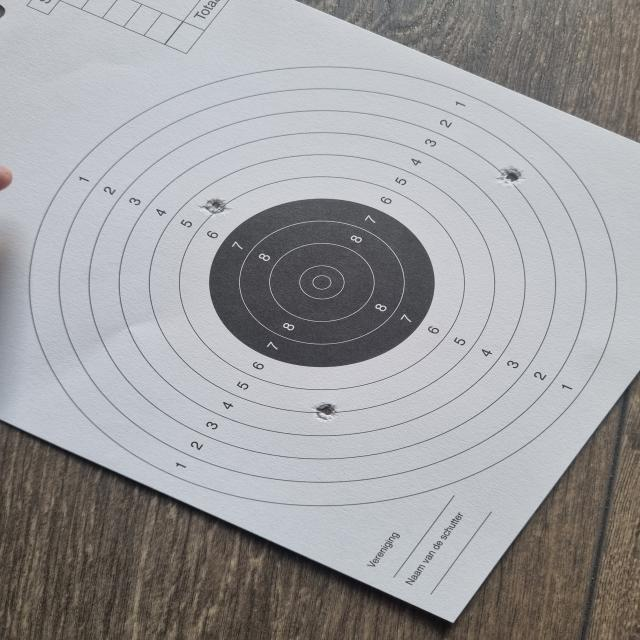4: (496, 164, 524, 188)
6: (312, 402, 338, 422)
7: (200, 196, 230, 216)
Black Contour: (212, 198, 442, 364)
Target: (32, 65, 622, 510)
